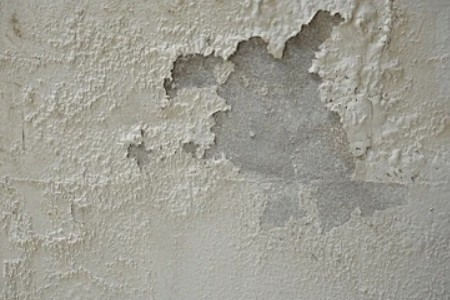wall_peeling: (118, 8, 408, 219)
